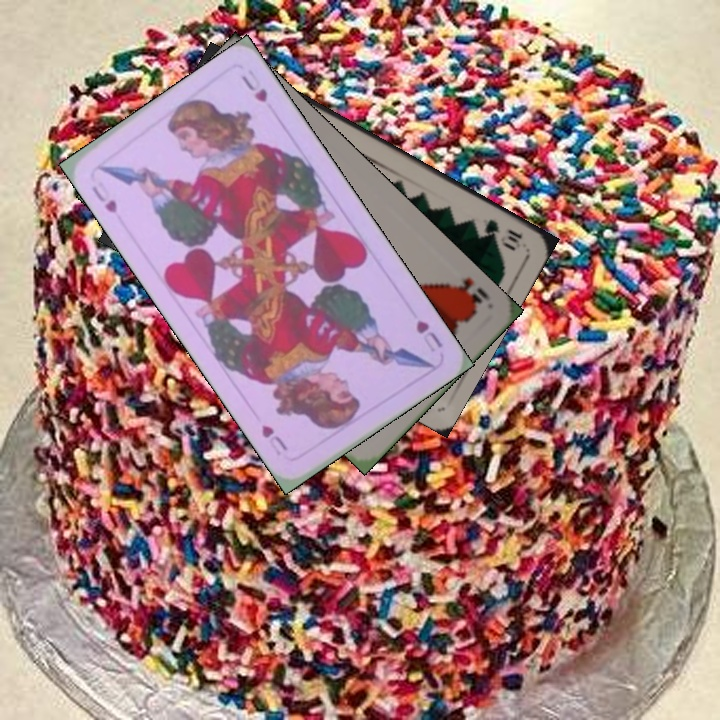G10: (480, 215, 525, 253)
HO: (449, 273, 493, 314)
HU: (411, 315, 446, 355), (87, 182, 120, 216)
